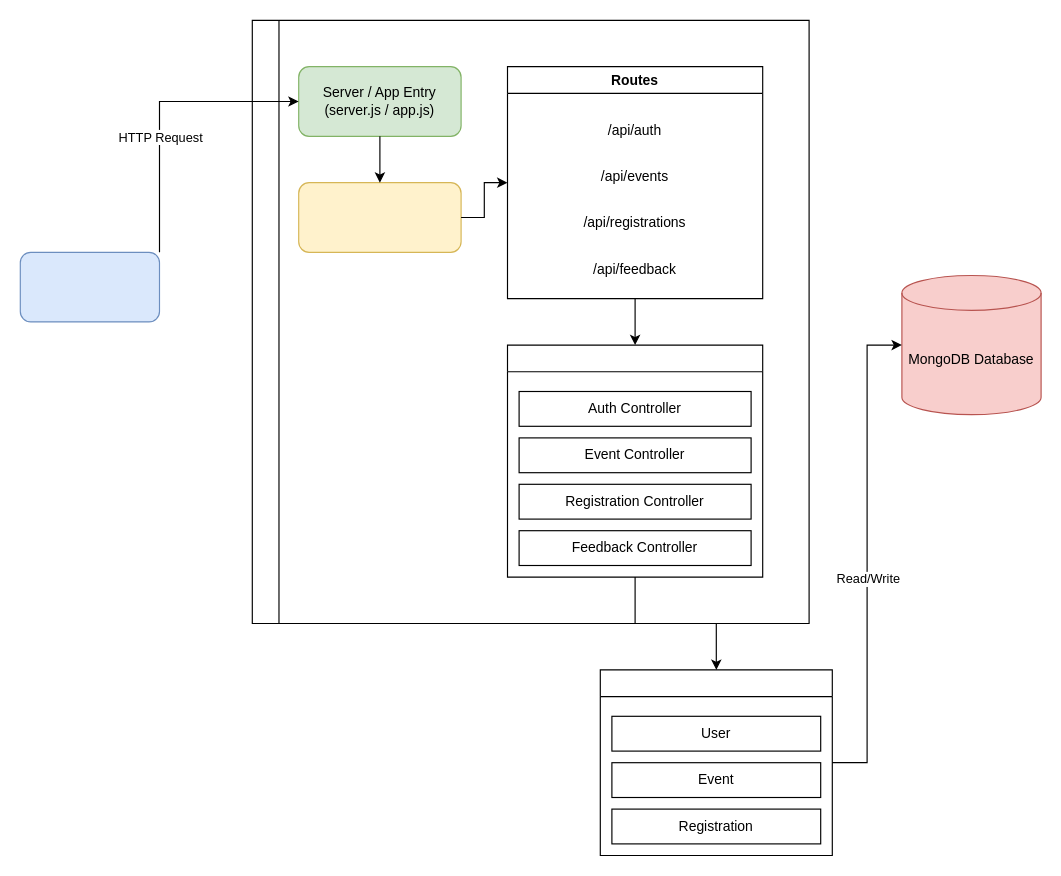
The diagram is 1061 pixels wide and 876 high, and some of its shapes have lost their labels. The shapes that lost their labels are listed below. From the top down, each one's box as (x1, y1, x2, y2) in pixels, then its label:
(298, 182, 461, 252): Middlewares (Auth, Role, Error)
(19, 251, 160, 322): Client (Frontend)
(251, 19, 809, 624): Express Server (Node.js)
(506, 344, 763, 577): Controllers
(599, 669, 832, 855): Mongoose Models
